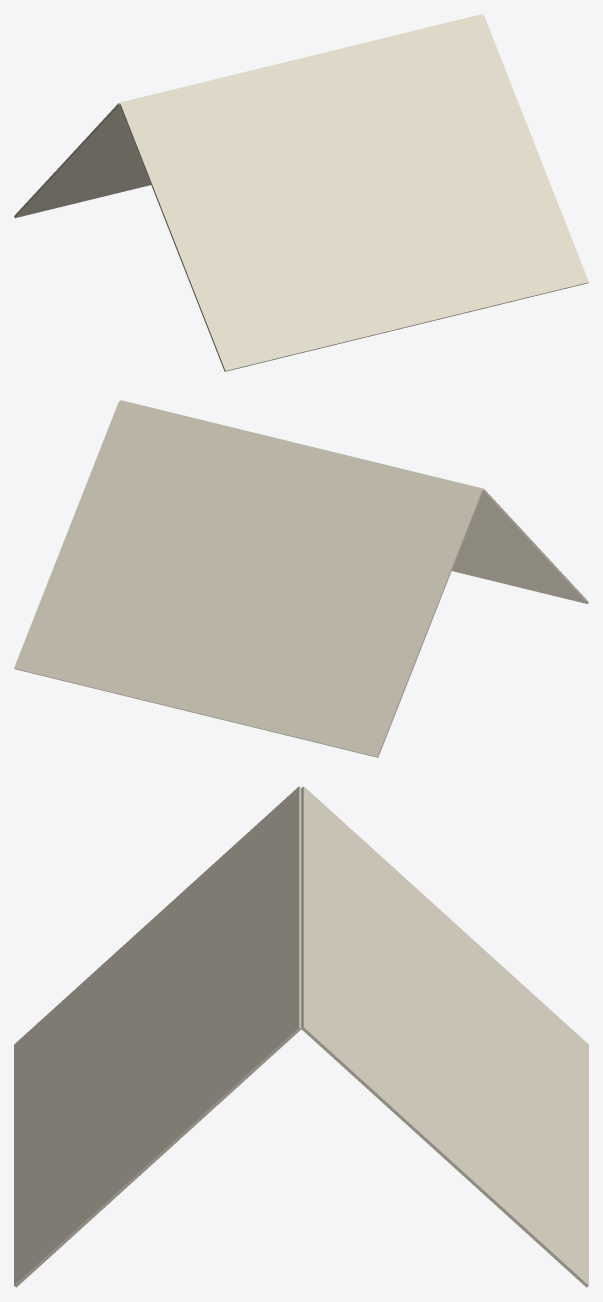
Rendered from paper.glb.
3 views of the same model, one above another, from view 1: azimuth 30°, elevation 25°; view 2: azimuth 150°, elevation 25°; view 3: azimuth 270°, elevation 25° (orthographic). The views are drawn at different scales.
Parts seen in each view (by area): view 1: GatheredLeaves_1, GatheredLeaves_-1; view 2: GatheredLeaves_-1, GatheredLeaves_1; view 3: GatheredLeaves_-1, GatheredLeaves_1.
Boxes of the visible parts, left/top/right/bottom form: GatheredLeaves_1: left=120, top=15, right=588, bottom=371; GatheredLeaves_-1: left=14, top=14, right=482, bottom=217; GatheredLeaves_-1: left=14, top=401, right=482, bottom=757; GatheredLeaves_1: left=120, top=400, right=588, bottom=603; GatheredLeaves_-1: left=301, top=786, right=588, bottom=1287; GatheredLeaves_1: left=14, top=786, right=301, bottom=1287.
Size of the model in its own units: 0.21 by 0.1059 by 0.2117.
